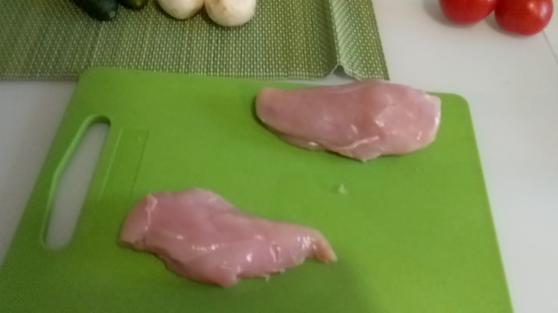chicken_fillet: (108, 185, 344, 283), (251, 74, 450, 167)
tomato: (495, 3, 553, 35)
